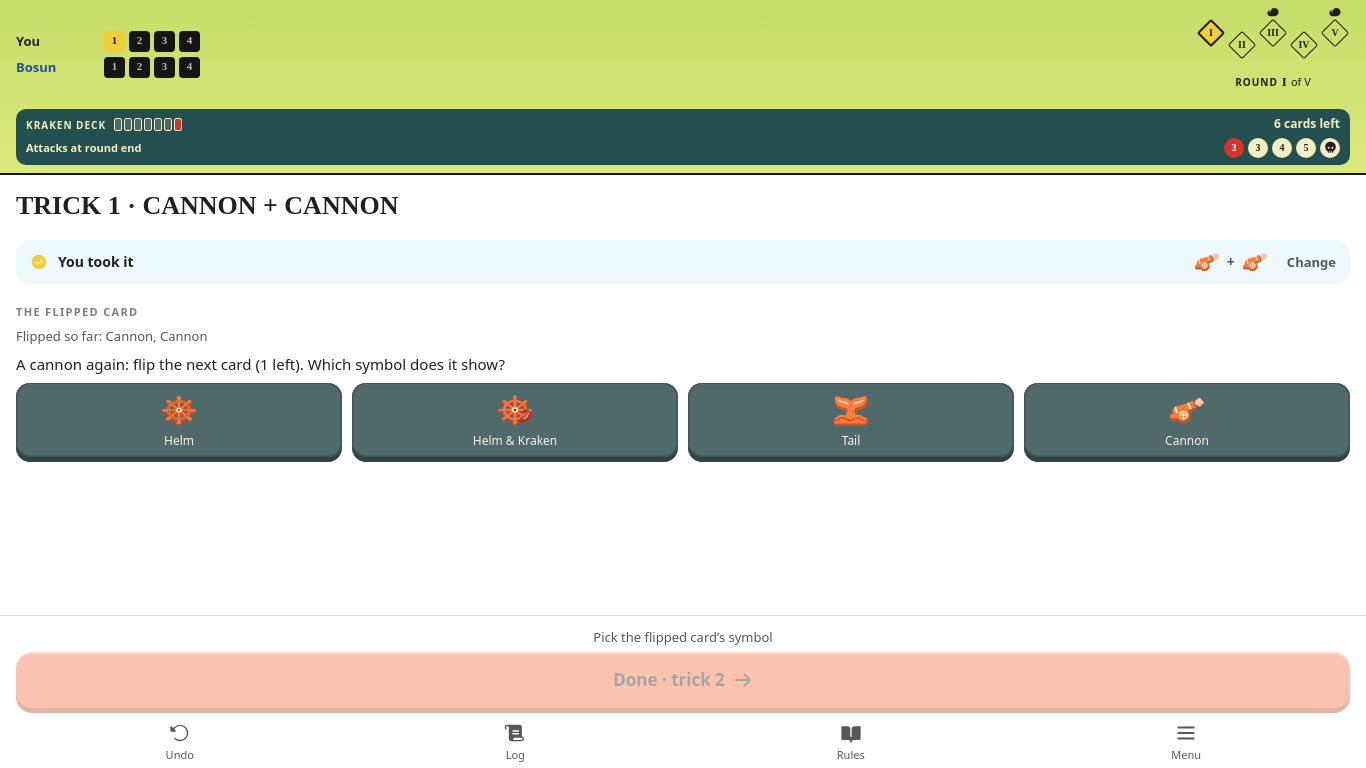
Scenario: cannon + cannon (C6) › stops when the player deck runs out
What coordinates should you click on to do the following:
click the button "Cannon"
I would click on:
 (1187, 420)
Its box is [1024,383,1350,457].
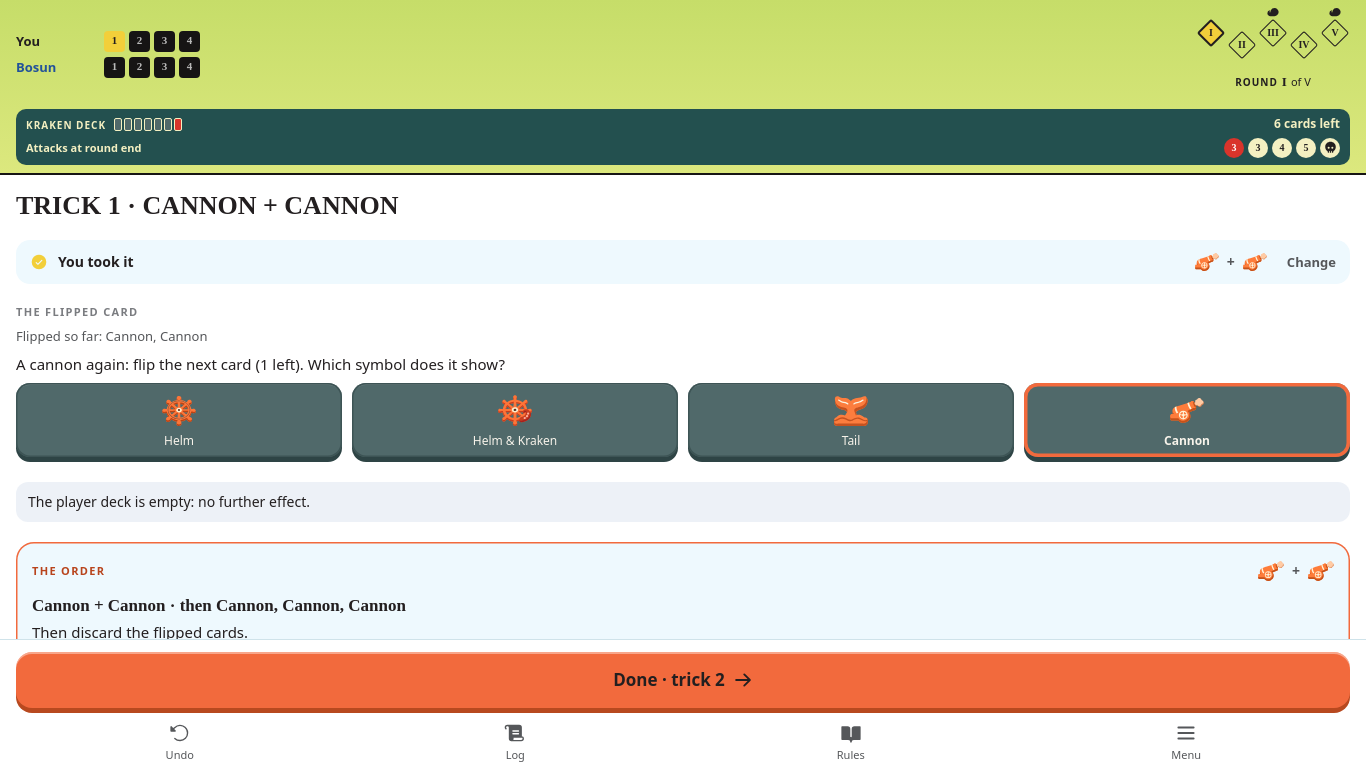
expect the text "The player deck is empty: no further effect." is shown: met, box [16,482,1350,522]
expect the button "Done · trick 2" is enabled: met, box [16,652,1350,708]
